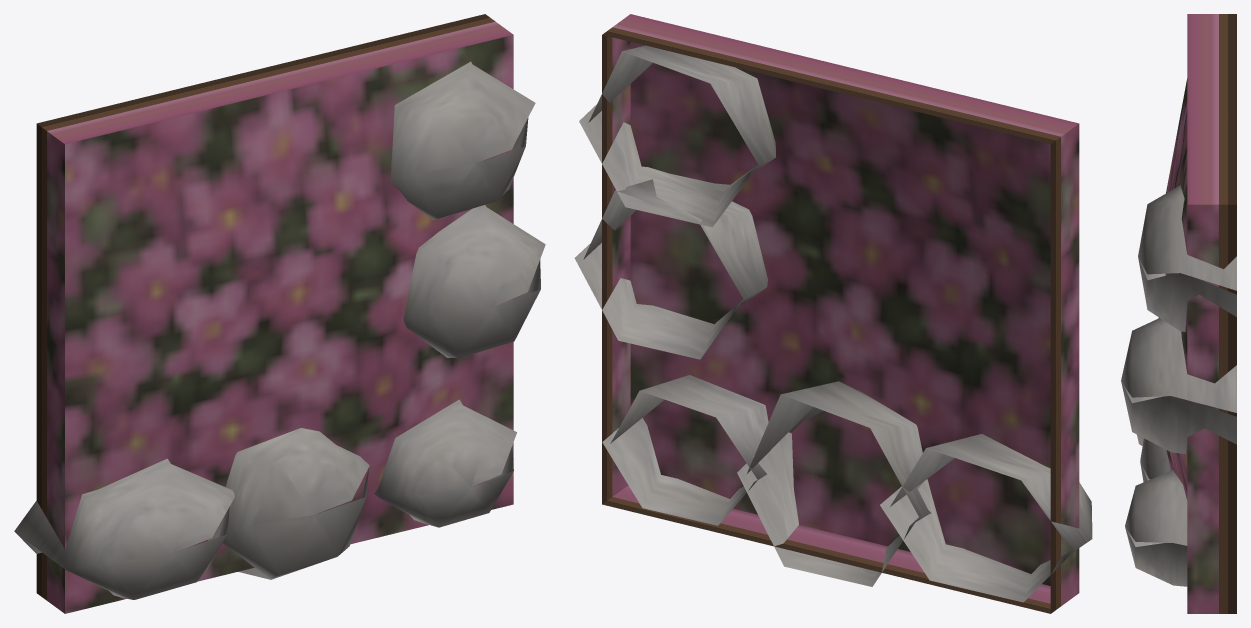
The model's file is keep-bed-palepink-stones-ne.obj.
The picture shows the model from 3 angles, left to right: view 1: azimuth 30°, elevation 25°; view 2: azimuth 150°, elevation 25°; view 3: azimuth 270°, elevation 25°; orthographic projection. The views are drawn at different scales.
Visible parts, largest first — view 1: bed-palepink-stones-ne; view 2: bed-palepink-stones-ne; view 3: bed-palepink-stones-ne.
Part boxes in pixels (box(x1,y1,x2,y2)): bed-palepink-stones-ne: box(14, 14, 545, 613); bed-palepink-stones-ne: box(574, 14, 1092, 613); bed-palepink-stones-ne: box(1121, 14, 1236, 613).
Size of the model in its own units: 1.11 by 1.04 by 0.2568.
Materials: 1 (1 with a texture image).
